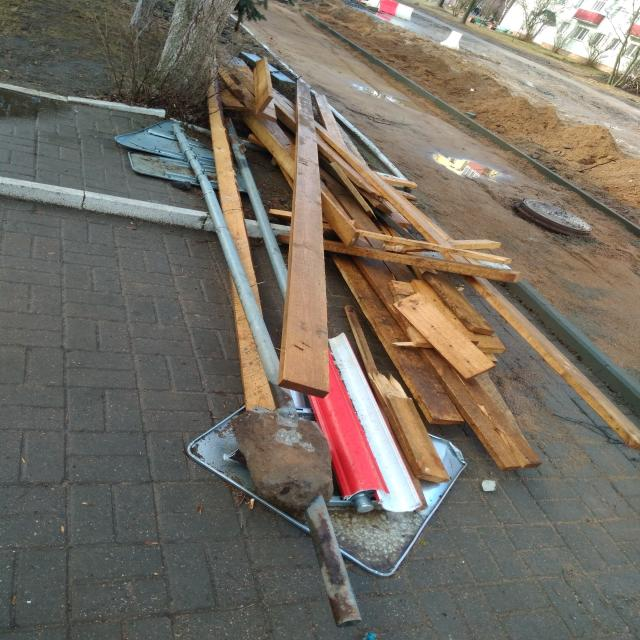entulho: (344, 260, 571, 479), (206, 68, 272, 380), (280, 73, 326, 394), (276, 92, 402, 208), (325, 236, 515, 278), (564, 361, 640, 462), (298, 498, 359, 622), (344, 252, 421, 335), (324, 178, 396, 250), (309, 93, 346, 165), (436, 441, 467, 480)
